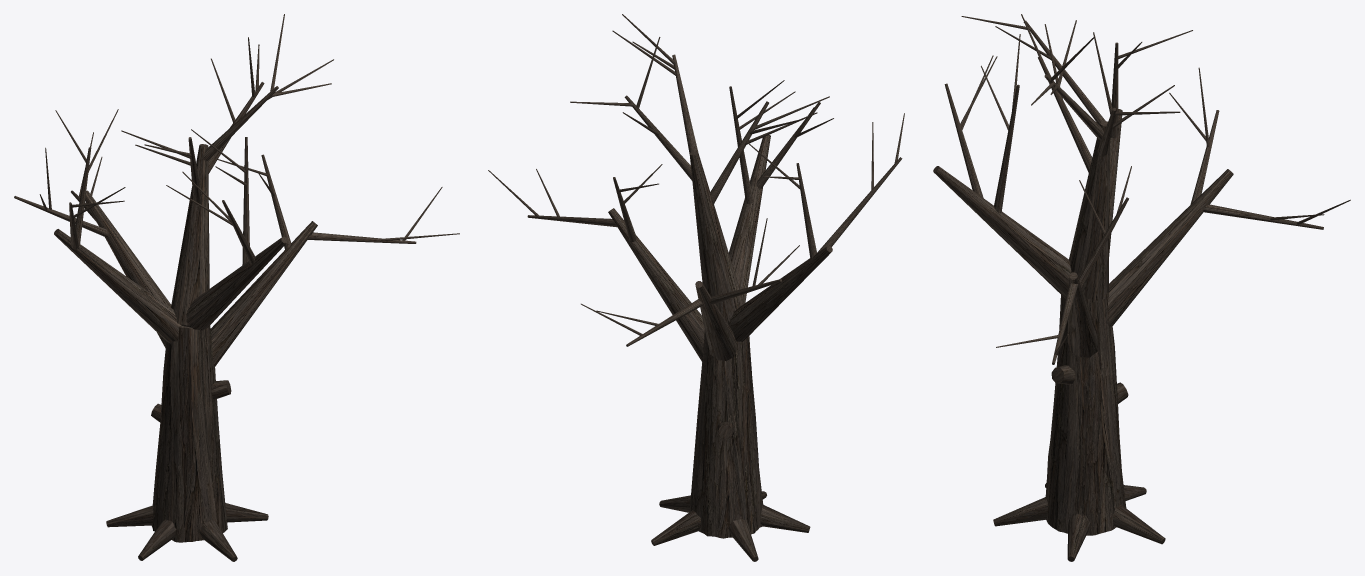
The model's file is dead-tree-v01-photo.glb.
The picture shows the model from 3 angles, left to right: view 1: azimuth 30°, elevation 25°; view 2: azimuth 150°, elevation 25°; view 3: azimuth 270°, elevation 25°; orthographic projection. The views are drawn at different scales.
Visible parts, largest first — view 1: dead-tree; view 2: dead-tree; view 3: dead-tree.
Part boxes in pixels (x1,y1,x2,y2): dead-tree: (14,14,459,561); dead-tree: (488,14,904,561); dead-tree: (933,14,1350,561).
Size of the model in its own units: 5.98 by 7.16 by 5.01.
1 material, 1 textured.
